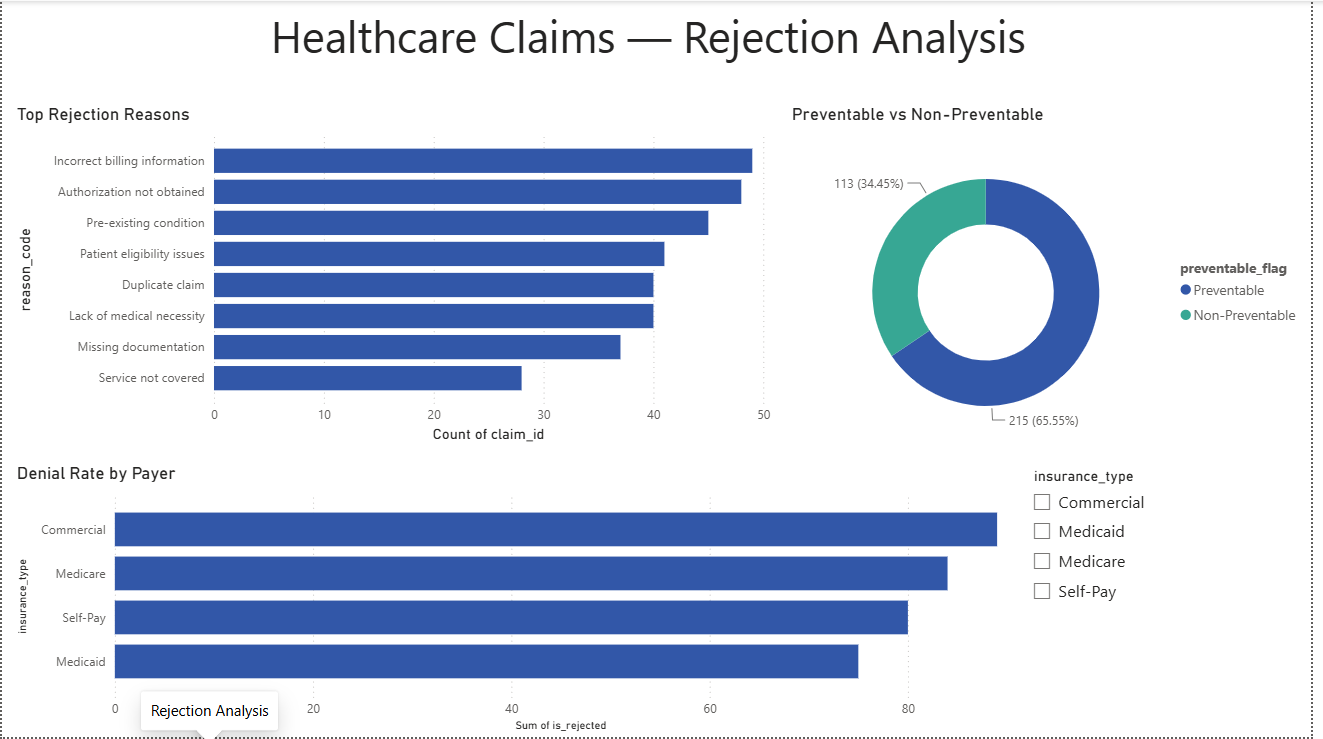

The page's visual inventory and layout, read from the dashboard file:
{"tool":"powerbi","page":{"name":"Rejection Analysis","canvas":[1280,720],"ordinal":1},"visuals":[{"type":"clusteredBarChart","title":"Top Rejection Reasons","fields":{"Category":["claims_final.reason_code"],"Y":["CountNonNull(claims_final.claim_id)"]},"box":[9.8,100.3,747.2,336.3],"z":0},{"type":"clusteredBarChart","title":"Denial Rate by Payer","fields":{"Category":["claims_final.insurance_type"],"Y":["Sum(claims_final.is_rejected)"]},"box":[9.8,451.2,747.2,269],"z":1000},{"type":"donutChart","title":"Preventable vs Non-Preventable","fields":{"Category":["claims_final.preventable_flag"],"Y":["CountNonNull(claims_final.claim_id)"]},"box":[767.9,100.3,500.1,437.8],"z":2000},{"type":"textbox","box":[258,0,766.7,68.5],"z":3000},{"type":"slicer","fields":{"Values":["claims_final.insurance_type"]},"box":[1087.1,547.8,181,172.4],"z":4000}]}

Visuals, with their boxes in screenshot pixels (x1, y1, x2, y2), scaled from the page's 1280x720 canvas onto the 1323x739 screenshot:
"Top Rejection Reasons" clusteredBarChart: [10,103,782,448]
"Denial Rate by Payer" clusteredBarChart: [10,463,782,738]
"Preventable vs Non-Preventable" donutChart: [794,103,1311,552]
textbox: [267,0,1059,70]
slicer - claims_final.insurance_type: [1124,562,1311,738]
